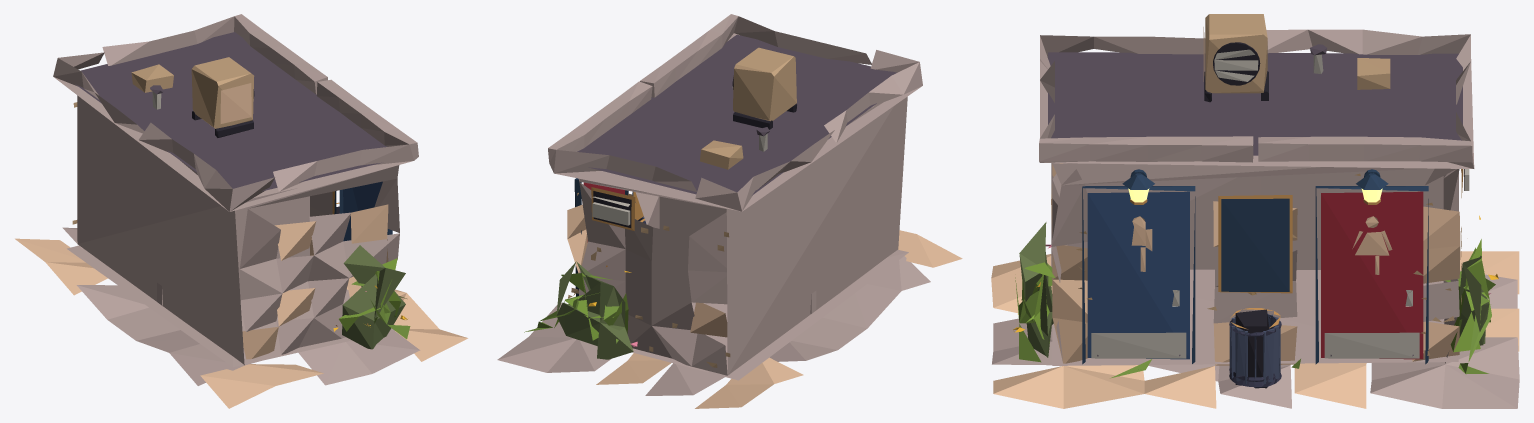
The model's file is bld.restroom-block.lod1.glb.
3 views of the same model, side by side, from view 1: azimuth 30°, elevation 25°; view 2: azimuth 150°, elevation 25°; view 3: azimuth 270°, elevation 25° (orthographic). The views are drawn at different scales.
Parts seen in each view (by area): view 1: object 20, roof, object 8, interior, object 7, door_men, object 13, object 14; view 2: object 20, roof, object 8, interior, object 7, object 13, object 21, object 10, object 14, object 22, object 16; view 3: roof, object 20, object 8, door_men, door_women, object 9, interior, object 7, object 12, object 14, object 13, object 10 (+4 smaller).
Part boxes in pixels (x1=…): object 20: x1=62, y1=95, x2=420, y2=385; roof: x1=53, y1=14, x2=418, y2=211; object 8: x1=15, y1=204, x2=467, y2=408; interior: x1=67, y1=196, x2=394, y2=367; object 7: x1=342, y1=245, x2=405, y2=349; door_men: x1=343, y1=181, x2=382, y2=241; object 13: x1=339, y1=258, x2=401, y2=331; object 14: x1=351, y1=281, x2=410, y2=339; object 20: x1=497, y1=96, x2=930, y2=395; roof: x1=548, y1=14, x2=922, y2=211; object 8: x1=567, y1=204, x2=962, y2=408; interior: x1=632, y1=196, x2=908, y2=380; object 7: x1=556, y1=261, x2=633, y2=359; object 13: x1=554, y1=273, x2=628, y2=340; object 21: x1=592, y1=196, x2=630, y2=225; object 10: x1=591, y1=187, x2=644, y2=230; object 14: x1=524, y1=292, x2=619, y2=343; object 22: x1=593, y1=191, x2=641, y2=227; object 16: x1=568, y1=193, x2=730, y2=367; roof: x1=1039, y1=14, x2=1474, y2=168; object 20: x1=992, y1=163, x2=1519, y2=408; object 8: x1=991, y1=163, x2=1519, y2=408; door_men: x1=1087, y1=191, x2=1189, y2=359; door_women: x1=1321, y1=191, x2=1423, y2=359; object 9: x1=1082, y1=186, x2=1428, y2=364; interior: x1=1052, y1=176, x2=1458, y2=365; object 7: x1=1019, y1=222, x2=1489, y2=357; object 12: x1=1229, y1=313, x2=1280, y2=384; object 14: x1=1015, y1=263, x2=1495, y2=378; object 13: x1=1021, y1=239, x2=1490, y2=352; object 10: x1=1218, y1=169, x2=1463, y2=329.
Size of the model in its own units: 4.31 by 4.17 by 6.7.
